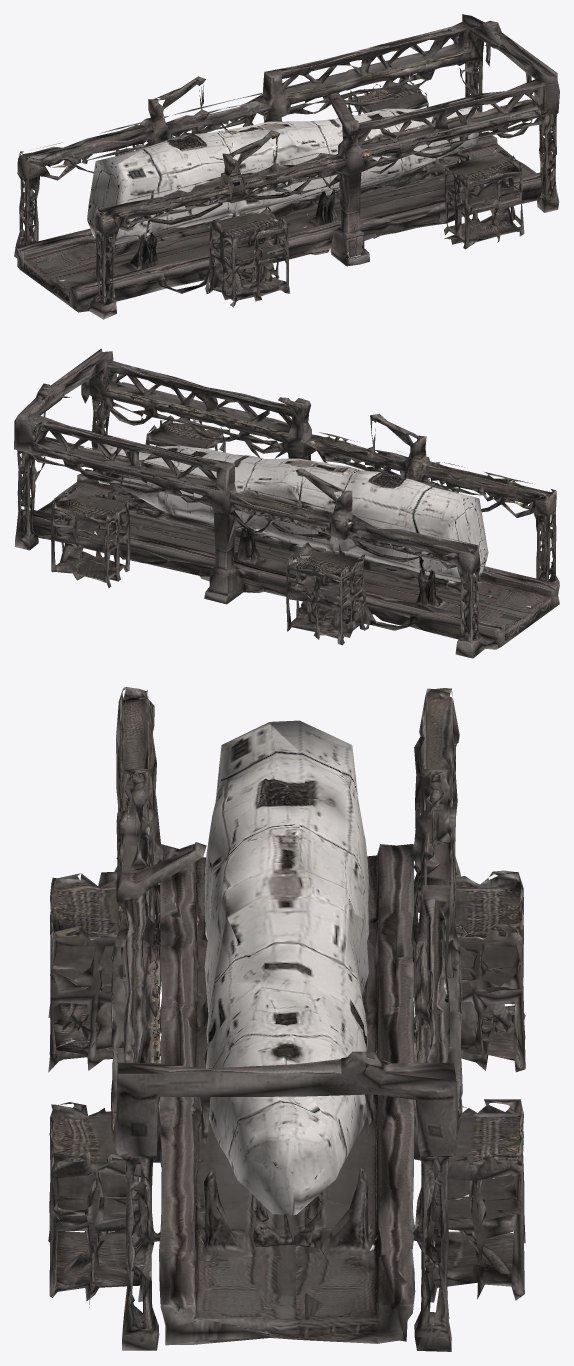
Rendered from repairYard.glb.
3 renders of one model, top to bottom at view 1: azimuth 30°, elevation 25°; view 2: azimuth 150°, elevation 25°; view 3: azimuth 270°, elevation 25°, orthographic. The views are drawn at different scales.
Bounding box in the file's own units: 1.9 × 0.5908 × 0.8287.
1 material, 1 textured.
